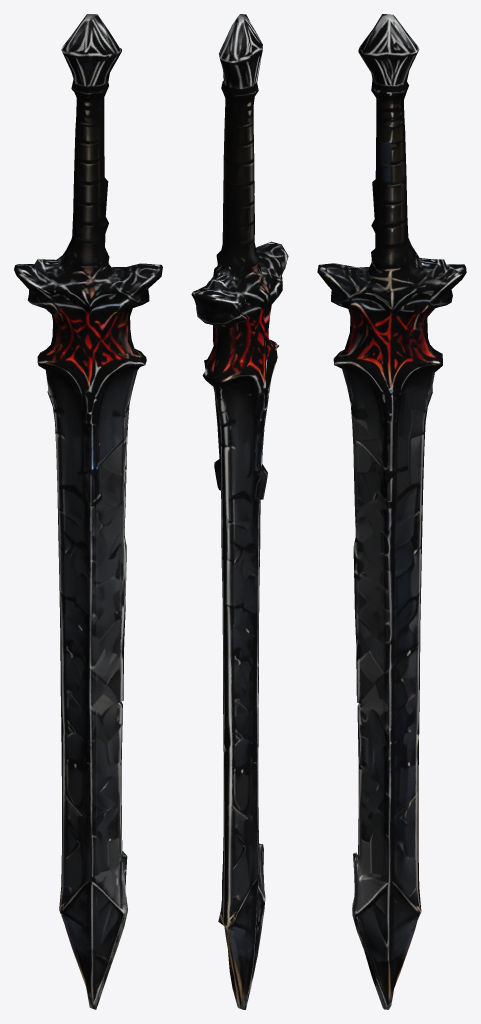
Rendered from commander_sword.glb.
The picture shows the model from 3 angles, left to right: view 1: azimuth 90°, elevation 25°; view 2: azimuth 150°, elevation 25°; view 3: azimuth 270°, elevation 25°; orthographic projection.
Parts seen in each view (by area): view 1: tripo_node_bd2c9a36-7161-4e31-803e-d29490c13075; view 2: tripo_node_bd2c9a36-7161-4e31-803e-d29490c13075; view 3: tripo_node_bd2c9a36-7161-4e31-803e-d29490c13075.
Boxes of the visible parts, x1,y1,x2,y2 form: tripo_node_bd2c9a36-7161-4e31-803e-d29490c13075: [14, 14, 162, 1009]; tripo_node_bd2c9a36-7161-4e31-803e-d29490c13075: [191, 14, 288, 1009]; tripo_node_bd2c9a36-7161-4e31-803e-d29490c13075: [317, 14, 466, 1009].
Size of the model in its own units: 0.0623 by 0.9995 by 0.1357.
Materials: 1 (1 with a texture image).
